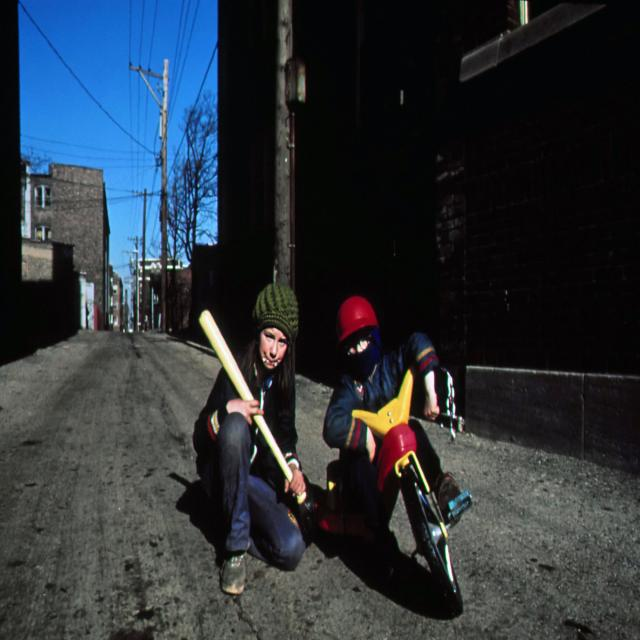adult: (324, 296, 472, 535), (193, 292, 306, 592)
